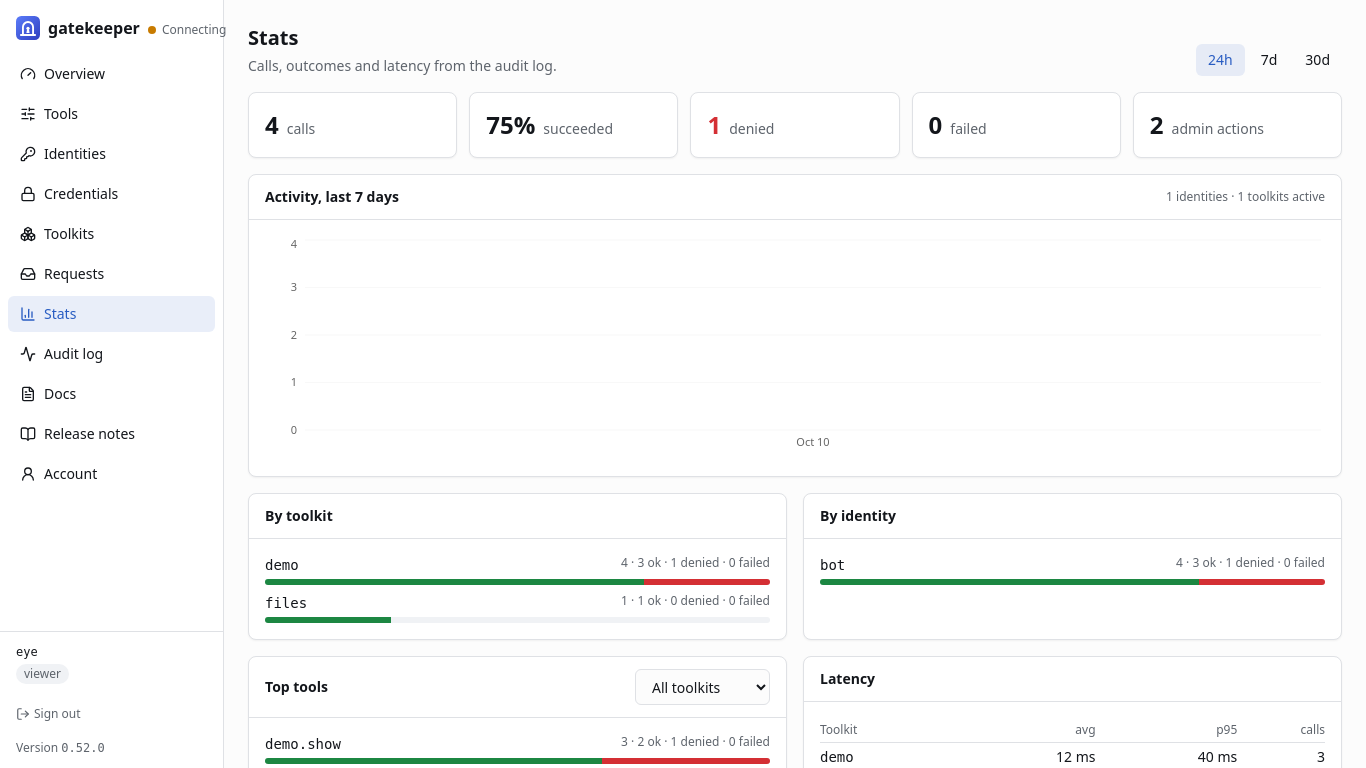
Test: stats and docs › lists the top tools of the toolkit picked from the dropdown
Step 1. Select "files" in the dropdown named "Toolkit" → {"x": 702, "y": 687}, box top-left (635, 669), bottom-right (770, 705)
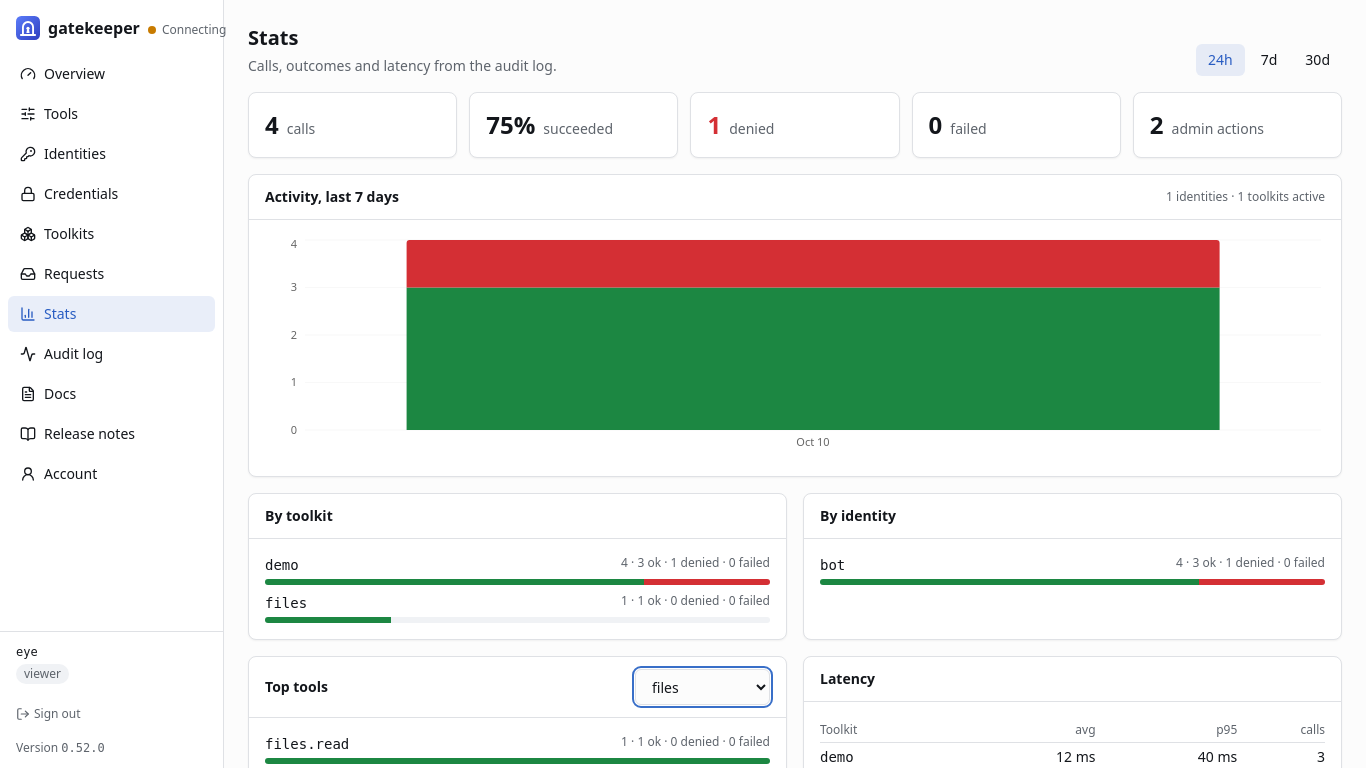
Check: the link "files.read" is shown, box top-left (265, 734), bottom-right (349, 754)
Check: the link "demo.show" is gone
